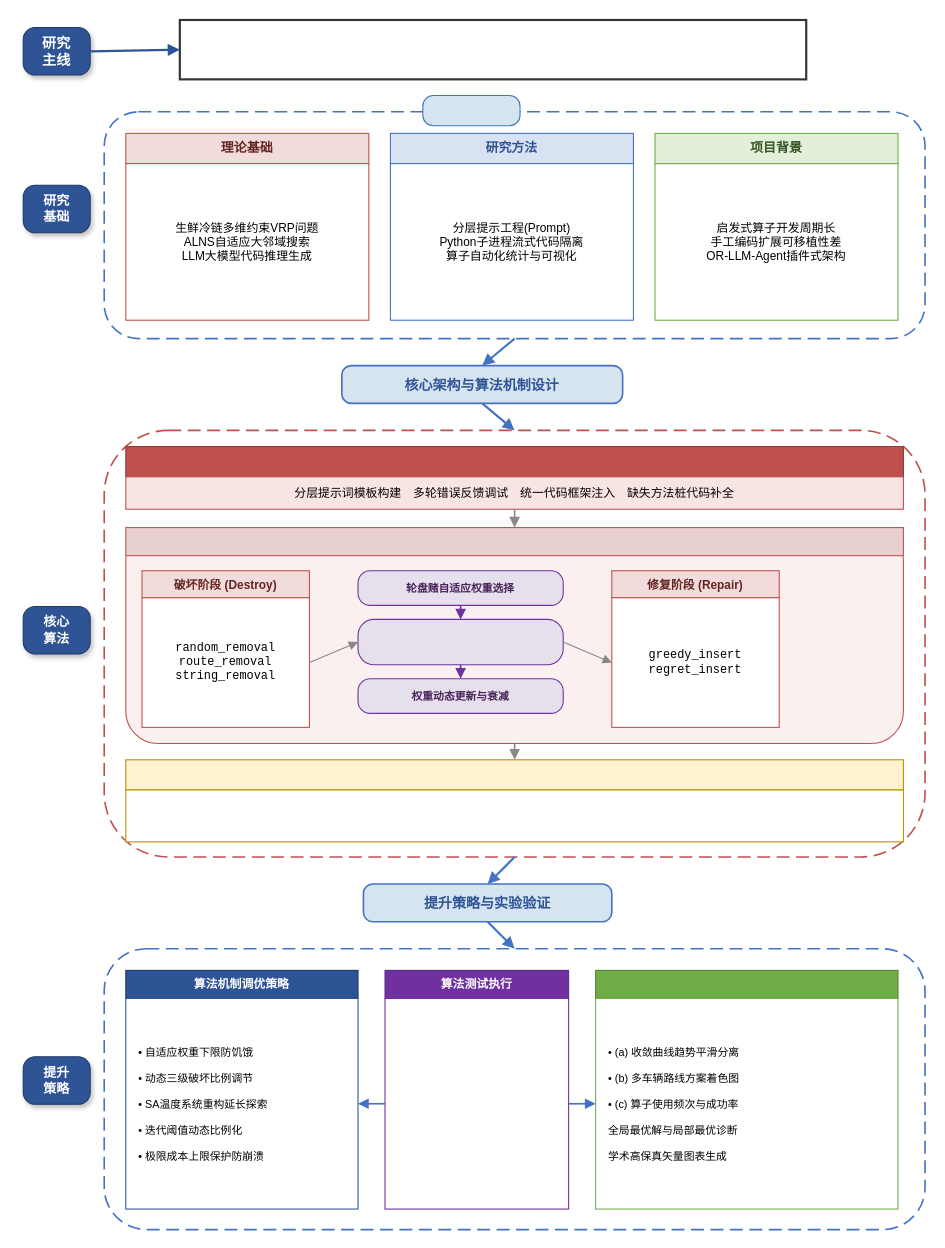
Some shapes in this 945 by 1248 pixel diagram are drawn without their labels. Here are the shapes that lost their labels. From the top down, the centre of each, then its label:
At [492,49]: "基于大语言模型的生鲜物流配送路径优化研究".
At [471,110]: "研究基础".
At [514,461]: "LLM 交互与算子生成层 (Interaction Layer)".
At [514,541]: "ALNS 框架执行层 (Skeleton Layer)".
At [460,641]: "模拟退火(SA)接受准则 P(accept) = exp(-Δ/T)".
At [514,774]: "生鲜物流五维评估模型 (Cost Calculation Layer)".
At [514,815]: "C11: 固定成本 C12: 距离成本 C13: 制冷成本 C2: 新鲜度衰减货损 C3: 时间窗惩罚".
At [746,983]: "结果可视化输出".
At [476,1103]: "Solomon C105 基准测试集 N=1000次迭代 最优成本突破".
